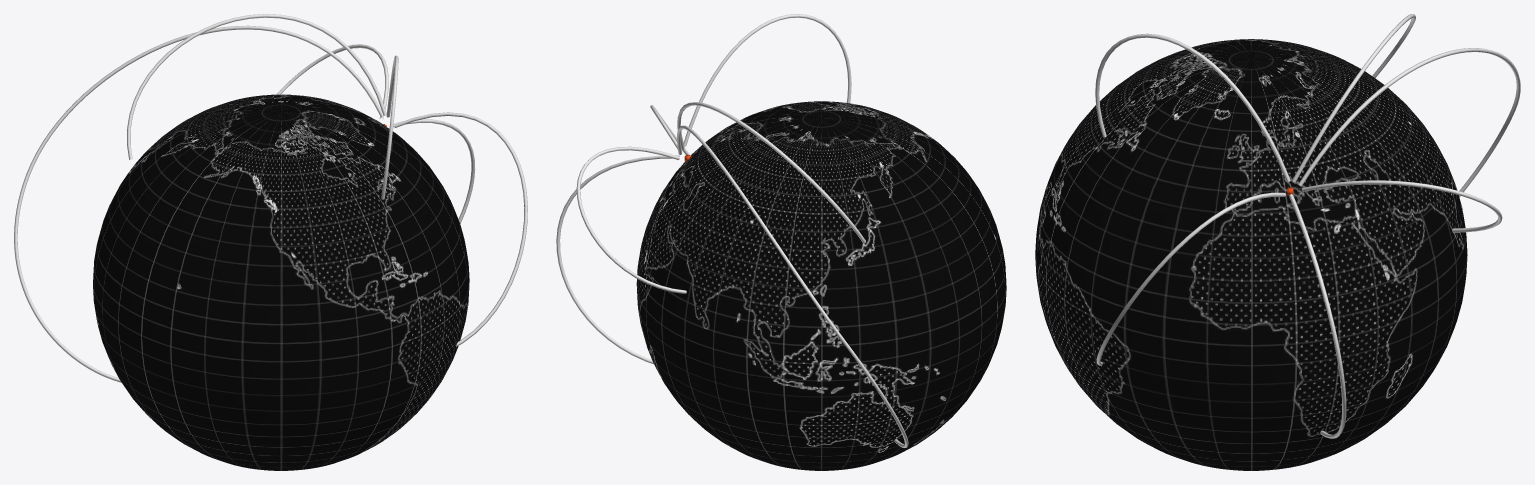
Rendered from mondo.glb.
3 renders of one model, left to right at view 1: azimuth 30°, elevation 25°; view 2: azimuth 150°, elevation 25°; view 3: azimuth 270°, elevation 25°, orthographic. The views are drawn at different scales.
Parts seen in each view (by area): view 1: Sphere, frecce; view 2: Sphere, frecce; view 3: Sphere, frecce.
Boxes of the visible parts, x1,y1,x2,y2 form: Sphere: (93,94,469,470); frecce: (14,14,527,382); Sphere: (636,101,1006,470); frecce: (556,14,908,447); Sphere: (1035,39,1467,470); frecce: (1095,14,1520,438).
Bounding box in the file's own units: 2.45 × 2.34 × 2.25.
Materials: 2 (1 with a texture image).
